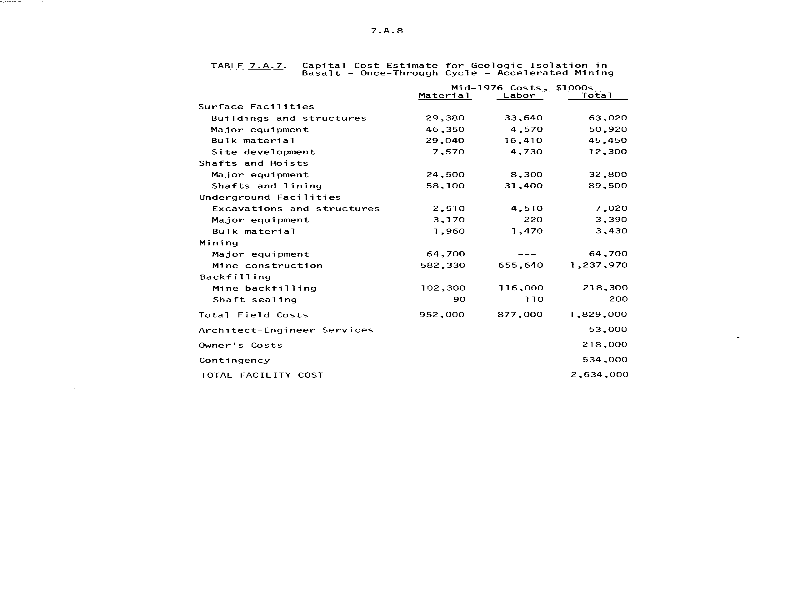table: (193, 80, 633, 387)
